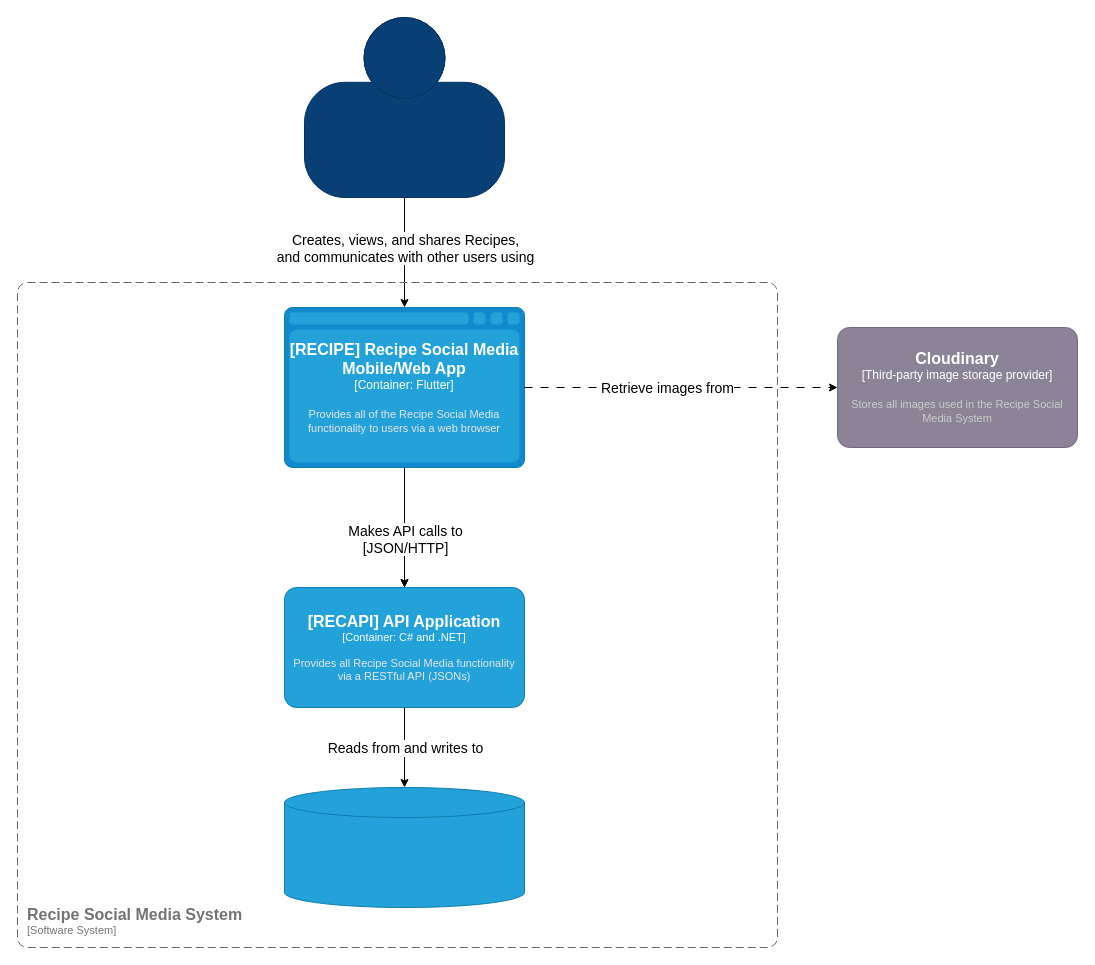
Some shapes in this 1095 by 965 pixel diagram are drawn without their labels. The centre of each missing label's shape, as x and y in pixels:
"Database [Container: MongoDB] Stores user information, recipes, and messages" belongs at (404,847).
"Regular User [Person] A user of the Recipe Social Media app." belongs at (404,107).
